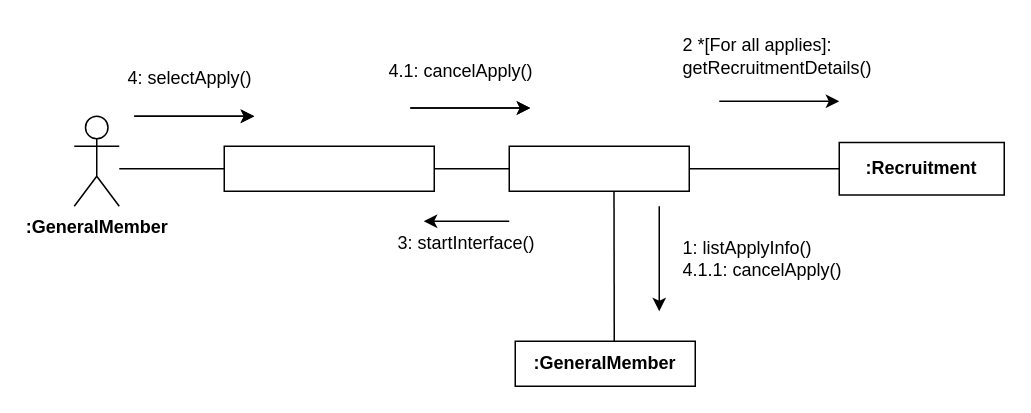
Some shapes in this 1031 by 413 pixel diagram are drawn without their labels. The box of each missing label's shape, as (x1, y1, x2, y2) in pixels:
:CancelApply: (508, 145, 689, 191)
:CancelApplyUI: (223, 145, 434, 191)
